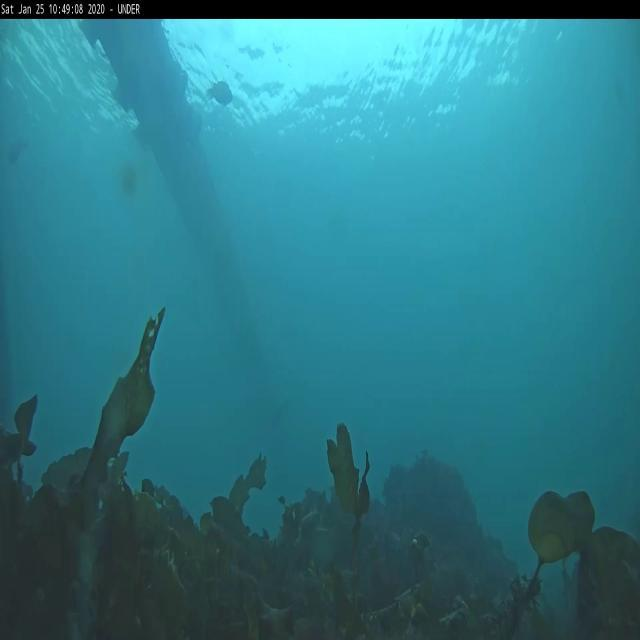fish: (208, 76, 231, 109)
